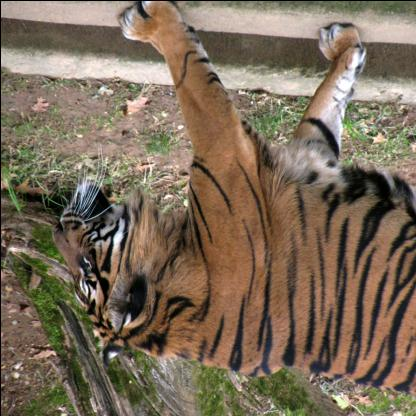tiger: (47, 172, 162, 359)
